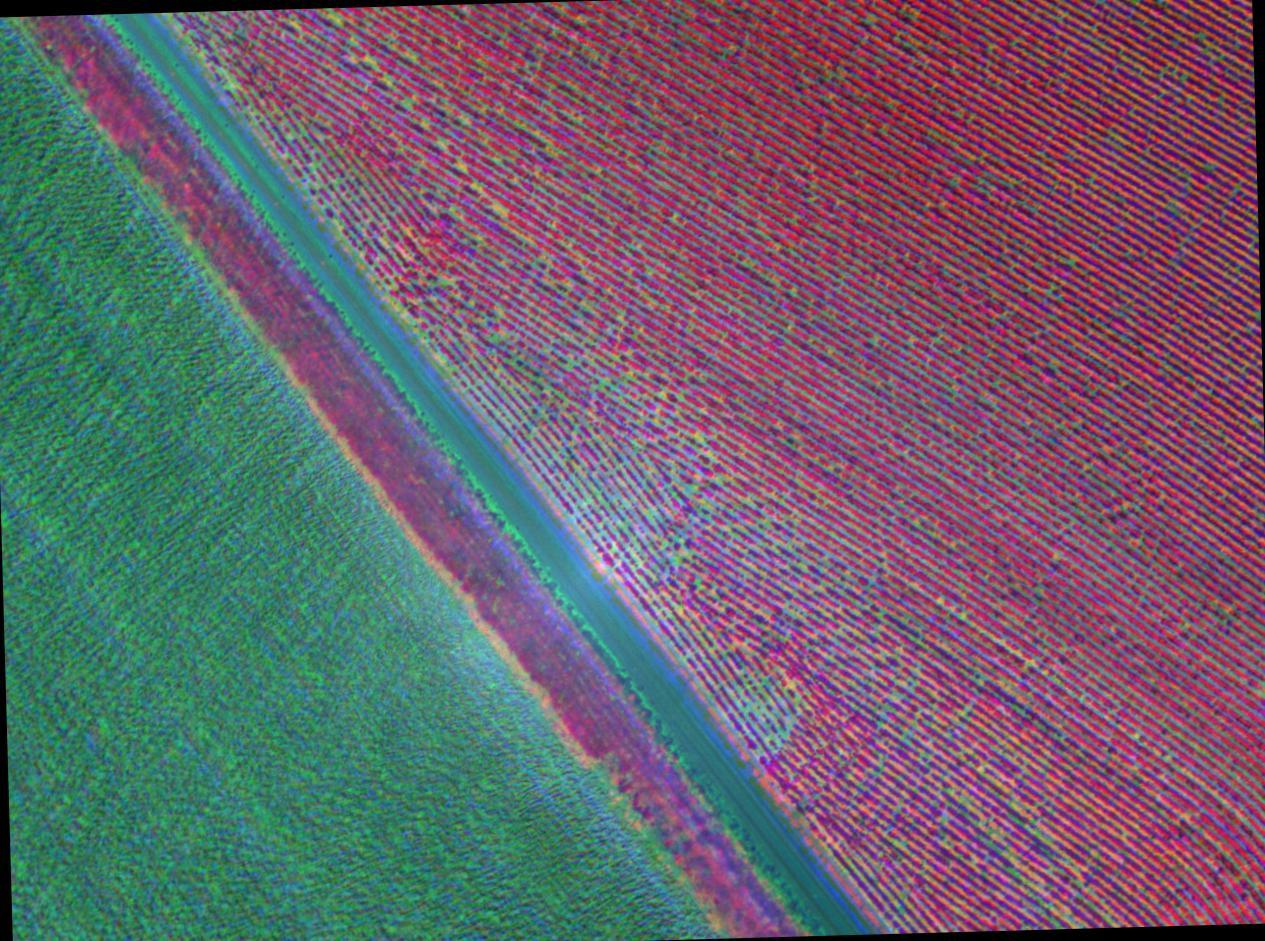dc: (442, 280, 446, 285), (422, 332, 426, 336), (518, 367, 522, 371), (659, 393, 663, 397), (711, 457, 714, 462), (499, 215, 503, 218), (535, 389, 538, 393), (548, 143, 551, 146), (460, 159, 463, 162), (674, 213, 677, 216), (581, 305, 584, 308)
